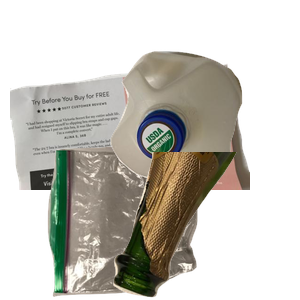glass: (111, 152, 300, 300)
paper: (10, 61, 250, 241)
plastic: (108, 49, 300, 226)
trash: (45, 144, 235, 300)
